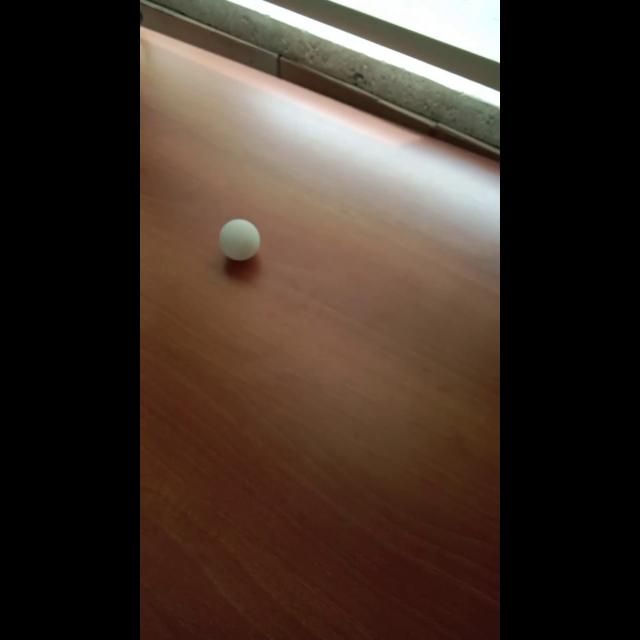white ball: (218, 217, 260, 261)
